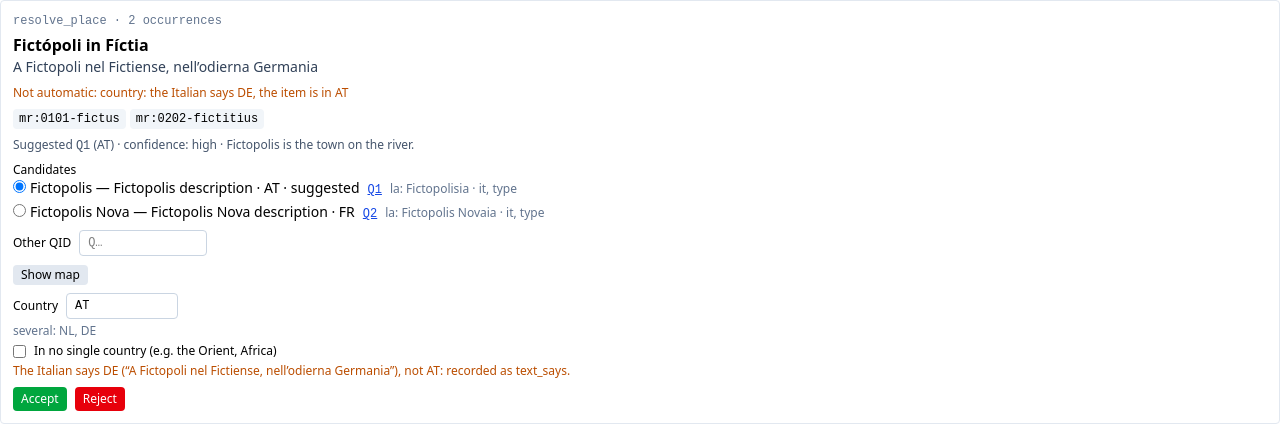
it: PlaceCard › a country that agrees with the Italian claim records no text_says
Replace the text in the field labelled "Country" with "DE" at (122, 306), box x1=66 y1=293 x2=178 y2=319
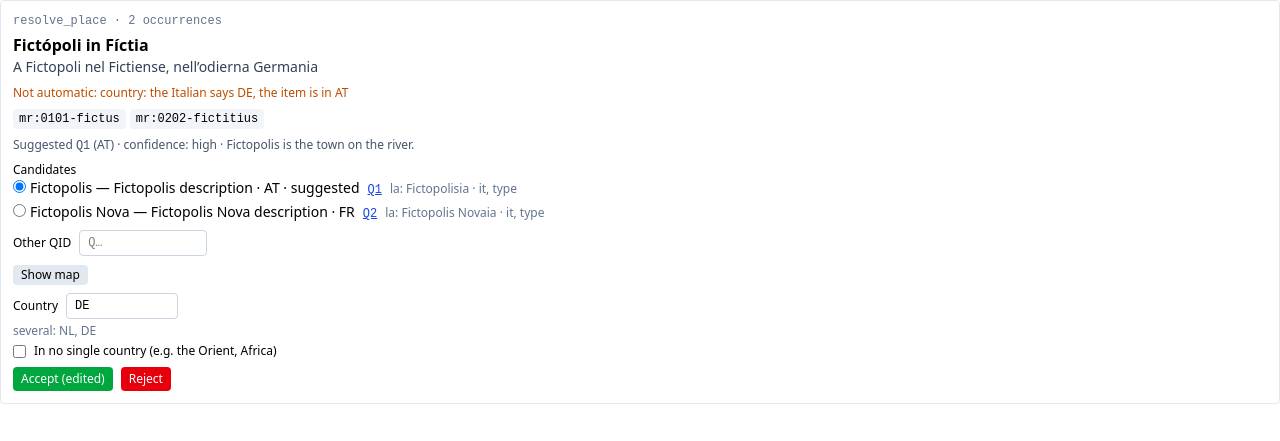
Check: the list with test id "text-says" is gone
